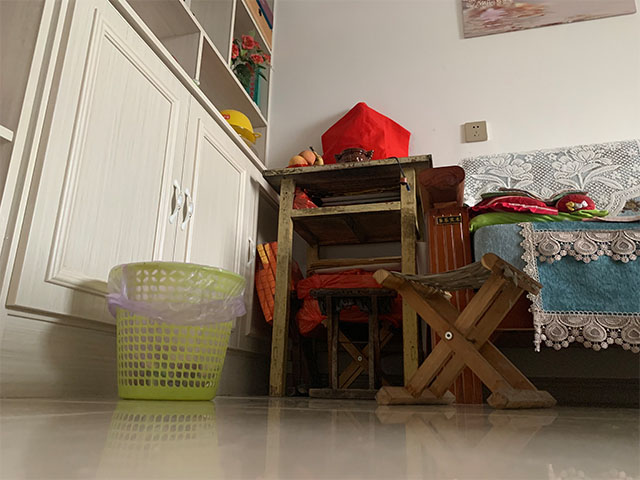cabinet: (1, 1, 316, 400)
sofa: (415, 138, 640, 406)
stool: (371, 252, 557, 410), (305, 286, 398, 398)
table: (261, 153, 435, 398)
trashcan: (106, 260, 247, 401)
